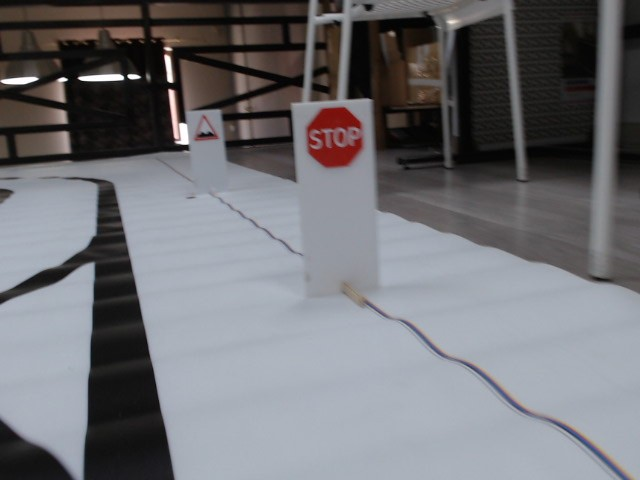Nerov: (193, 113, 219, 143)
Stop: (303, 105, 365, 168)
